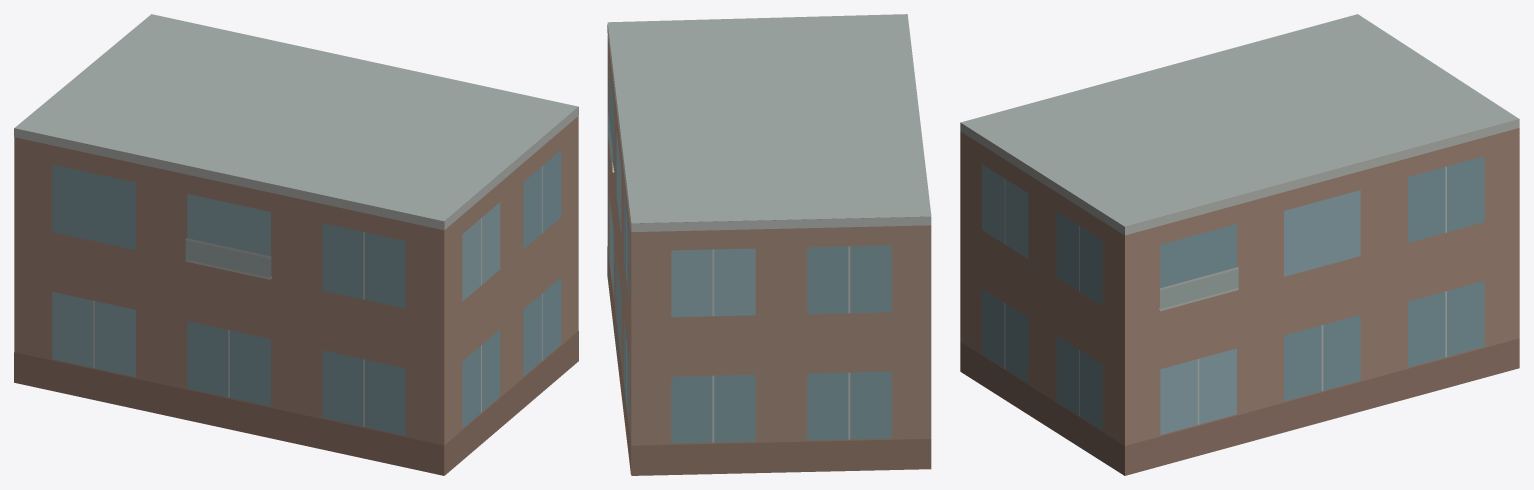
The model's file is survey-upis-32624882.glb.
The picture shows the model from 3 angles, left to right: view 1: azimuth 30°, elevation 25°; view 2: azimuth 150°, elevation 25°; view 3: azimuth 270°, elevation 25°; orthographic projection. The views are drawn at different scales.
Visible parts, largest first — view 1: survey-upis-32624882.tmp; view 2: survey-upis-32624882.tmp; view 3: survey-upis-32624882.tmp.
Boxes of the visible parts, x1,y1,x2,y2 form: survey-upis-32624882.tmp: (14,14,578,475); survey-upis-32624882.tmp: (607,14,931,475); survey-upis-32624882.tmp: (960,14,1519,475).
Bounding box in the file's own units: 12.74 × 6.95 × 14.15.
